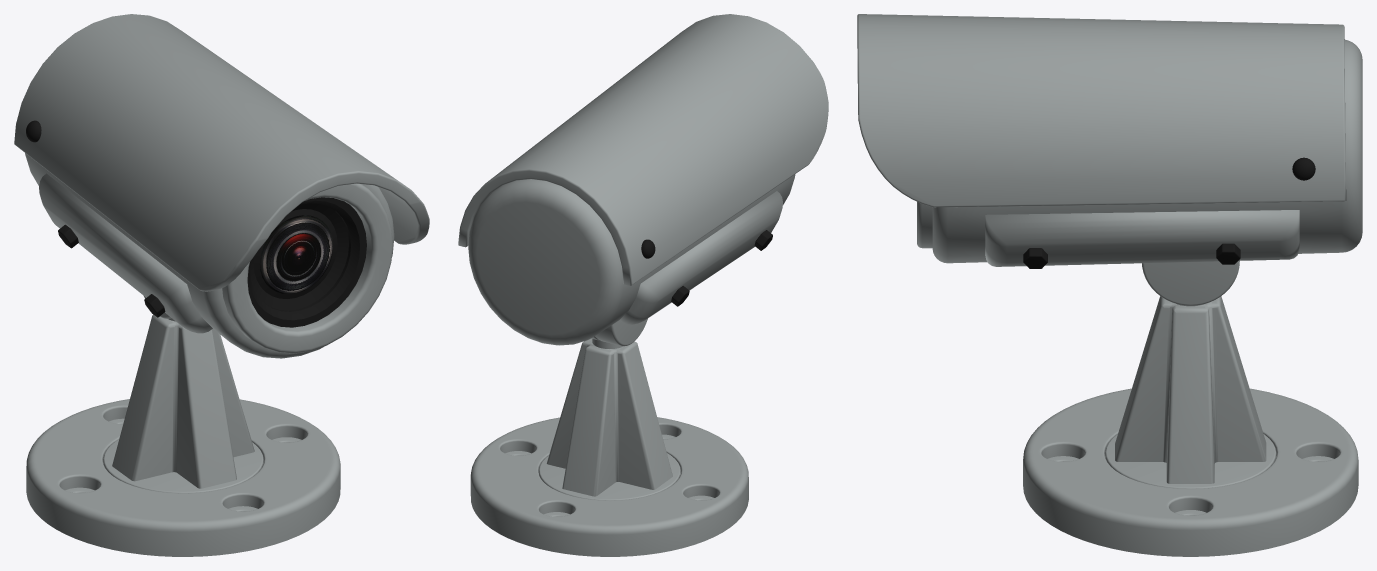
3 renders of one model, left to right at view 1: azimuth 30°, elevation 25°; view 2: azimuth 150°, elevation 25°; view 3: azimuth 270°, elevation 25°, orthographic. The views are drawn at different scales.
Parts seen in each view (by area): view 1: Camera_12; view 2: Camera_12; view 3: Camera_12.
Part boxes in pixels (left/top/right/bottom): Camera_12: left=14, top=14, right=429, bottom=556; Camera_12: left=458, top=14, right=828, bottom=556; Camera_12: left=857, top=14, right=1362, bottom=556.
Size of the model in its own units: 5.41 by 8.18 by 8.15.
3 materials, 1 textured.
